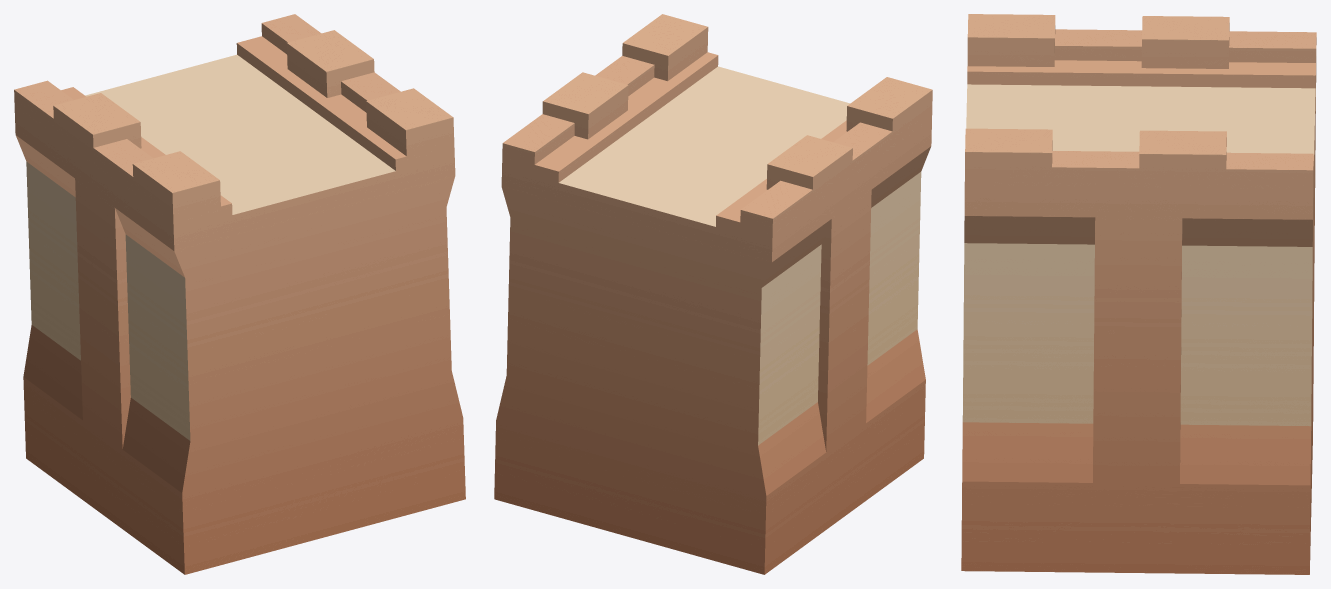
The model's file is wall-pillar.014_lev3.glb.
3 views of the same model, side by side, from view 1: azimuth 30°, elevation 25°; view 2: azimuth 150°, elevation 25°; view 3: azimuth 270°, elevation 25° (orthographic). The views are drawn at different scales.
Visible parts, largest first — view 1: wall-pillar.014_lev3; view 2: wall-pillar.014_lev3; view 3: wall-pillar.014_lev3.
Part boxes in pixels (x1=…): wall-pillar.014_lev3: x1=14, y1=14, x2=465, y2=574; wall-pillar.014_lev3: x1=494, y1=14, x2=932, y2=574; wall-pillar.014_lev3: x1=961, y1=14, x2=1316, y2=574.
Size of the model in its own units: 6.22 by 8 by 6.06.
1 material, 1 textured.
